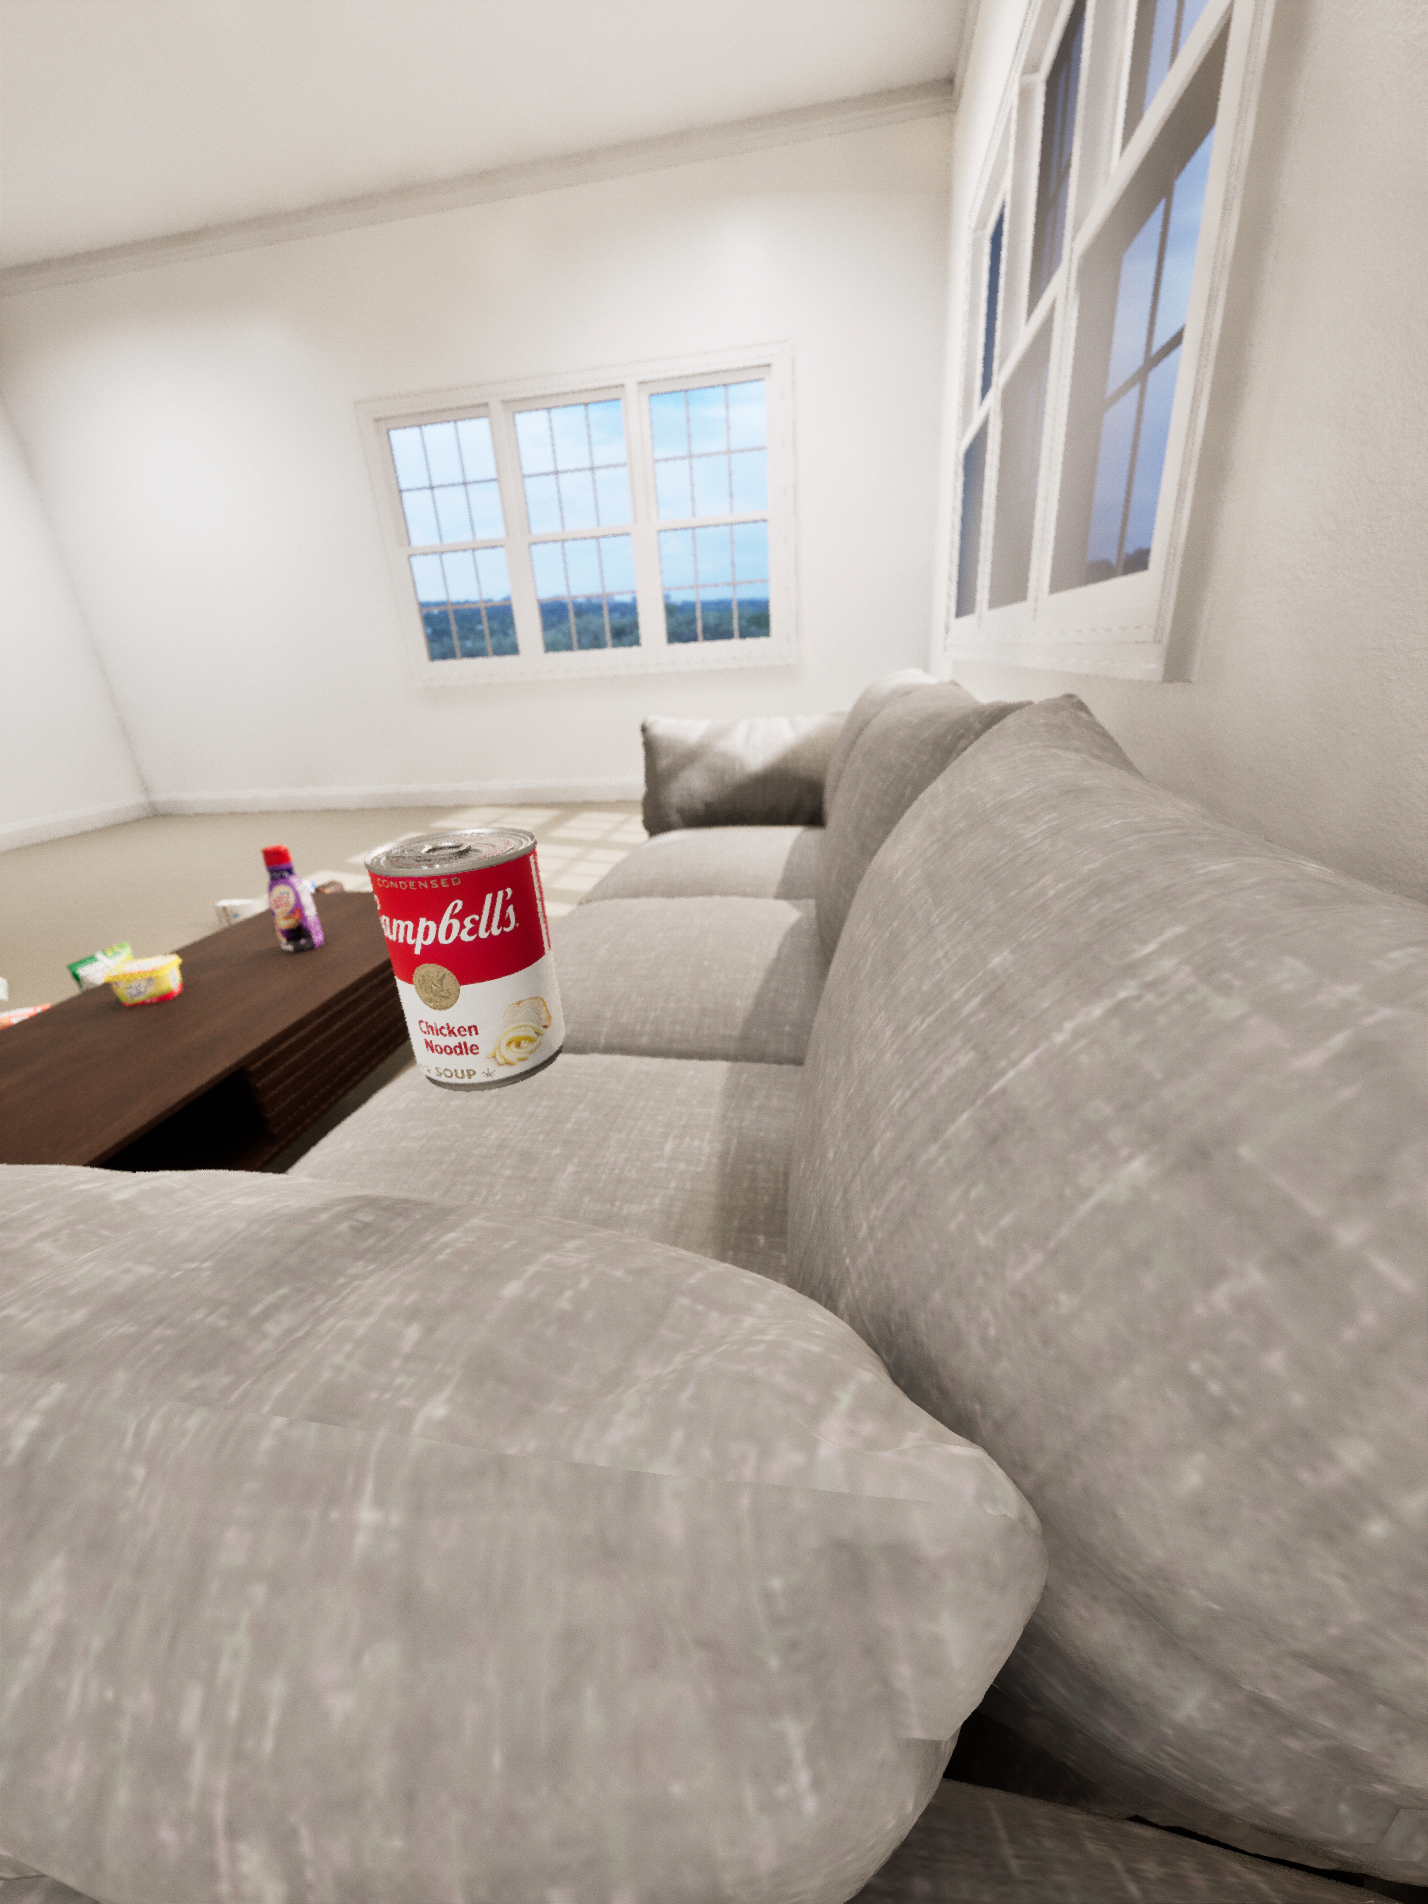cheerios: (180, 0, 819, 961)
